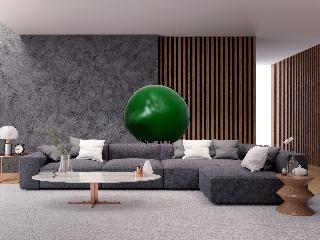lime: (120, 81, 194, 146)
